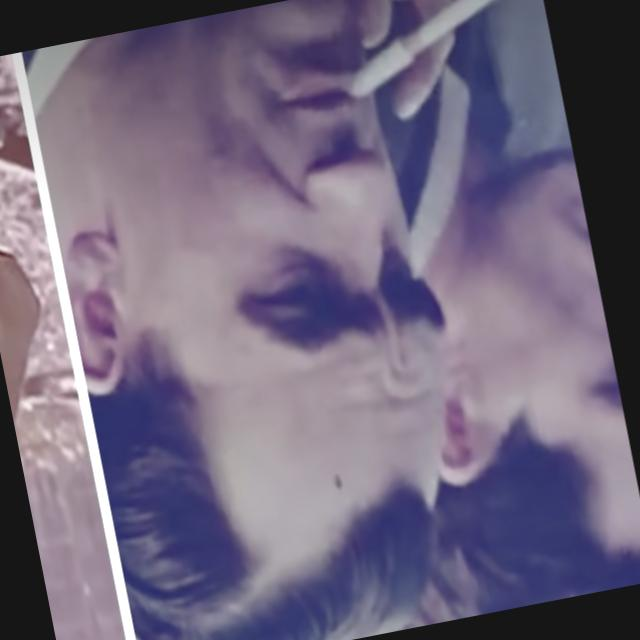smoke: (321, 0, 535, 99)
